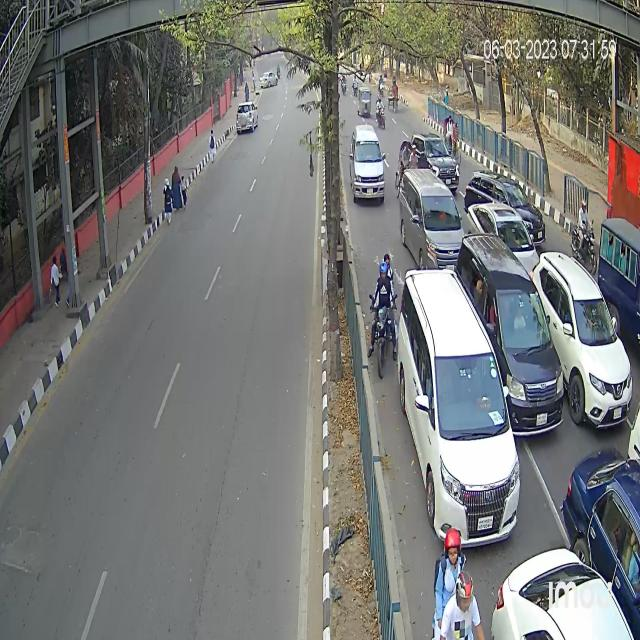cng: (356, 85, 372, 117)
rikshaw: (396, 140, 421, 203), (440, 109, 460, 162)
